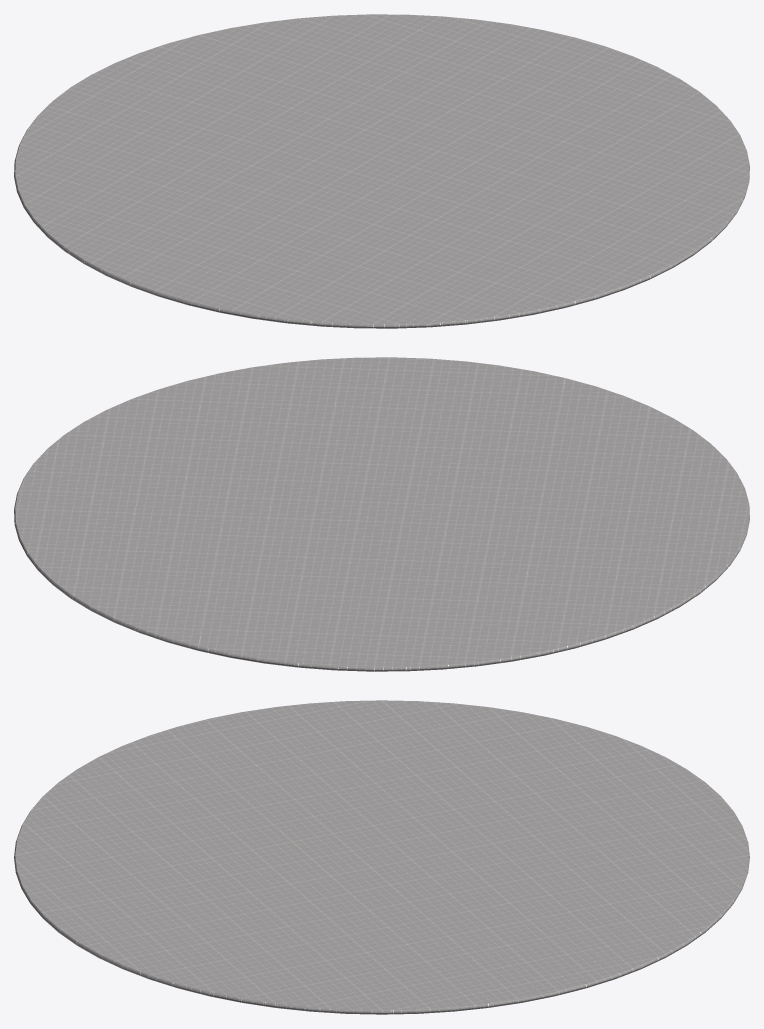
File: ChemistryScene.glb
3 views of the same model, one above another, from view 1: azimuth 30°, elevation 25°; view 2: azimuth 150°, elevation 25°; view 3: azimuth 270°, elevation 25° (orthographic).
Parts seen in each view (by area): view 1: Circle; view 2: Circle; view 3: Circle.
Part boxes in pixels (bbox=[...]): Circle: bbox=[14, 14, 749, 328]; Circle: bbox=[14, 357, 749, 671]; Circle: bbox=[14, 700, 749, 1014].
Size of the model in its own units: 381 by 2.46 by 381.
Materials: 1 (1 with a texture image).
